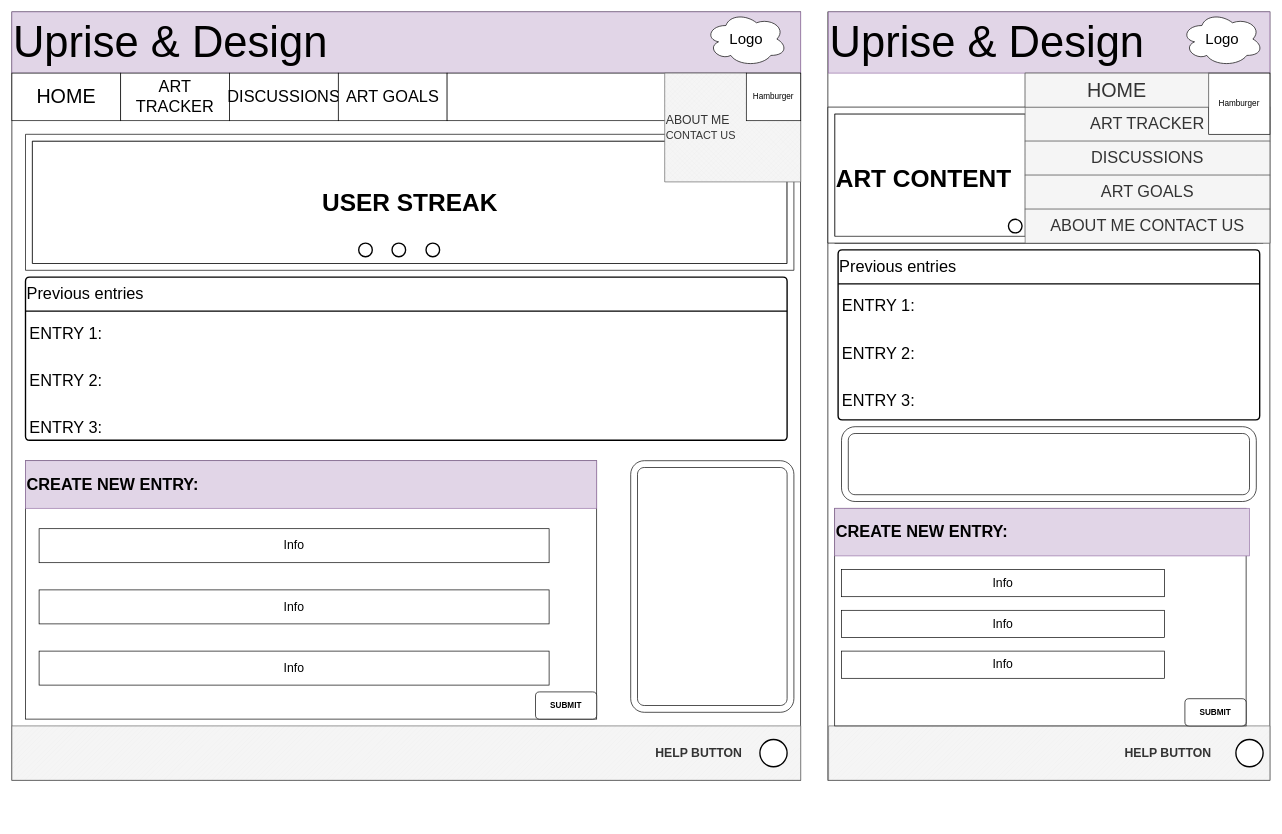
Some shapes in this 1282 by 834 pixel diagram are drawn without their labels. The centre of each missing label's shape, as x and y in pixels:
"GUIDELINES" goes at point 1048,464.
"GUIDELINES blah blah blah" goes at point 712,586.
